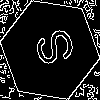S: (25, 25, 77, 73)
